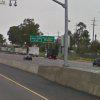Tree: (5, 13, 57, 61)
